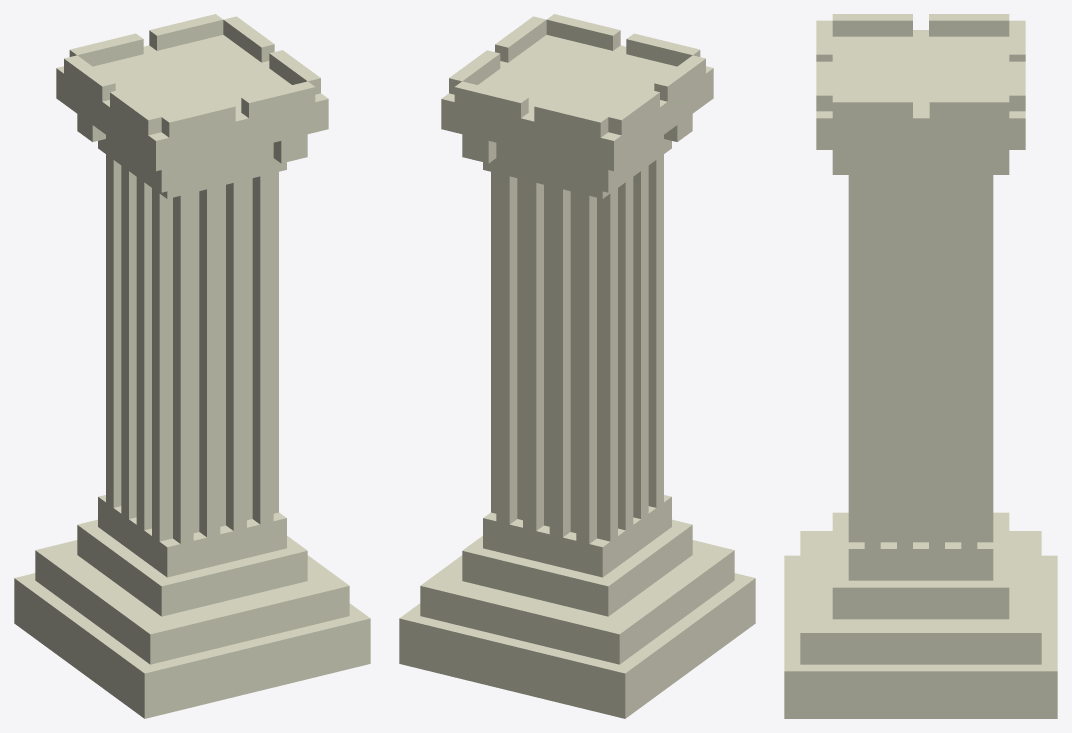
File: white rook piece.fbx
3 renders of one model, left to right at view 1: azimuth 30°, elevation 25°; view 2: azimuth 150°, elevation 25°; view 3: azimuth 270°, elevation 25°, orthographic. The views are drawn at different scales.
Parts seen in each view (by area): view 1: Object_2; view 2: Object_2; view 3: Object_2.
Boxes of the visible parts, box(x1,y1,x2,y2) form: Object_2: box(14, 14, 370, 718); Object_2: box(399, 14, 755, 718); Object_2: box(784, 14, 1057, 718).
Bounding box in the file's own units: 266 × 647 × 266.
